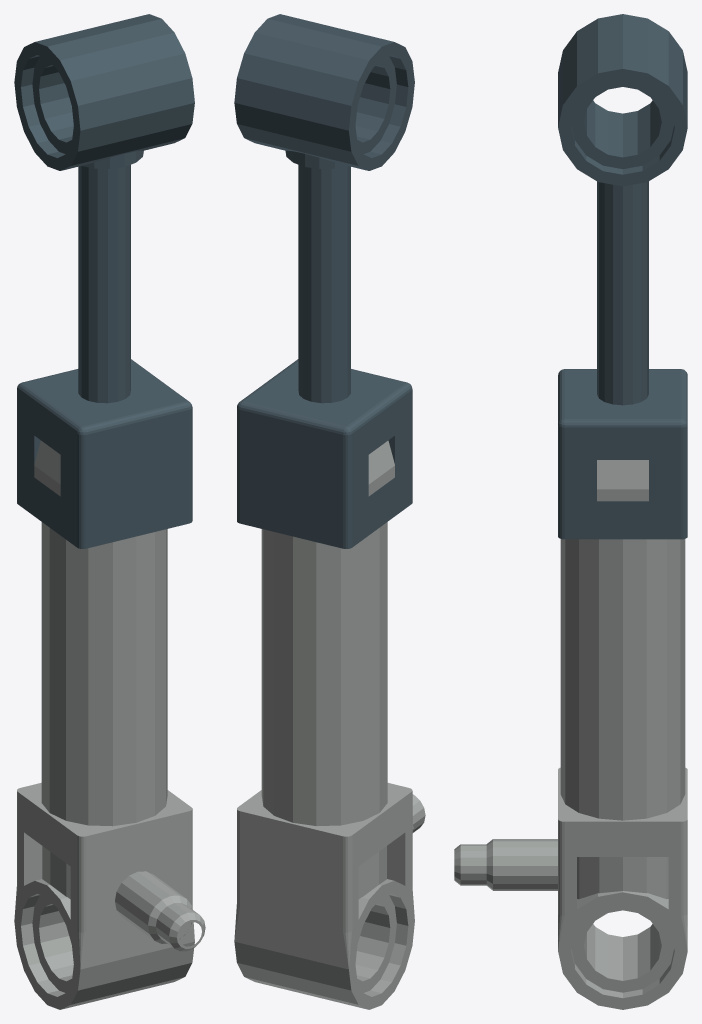
The picture shows the model from 3 angles, left to right: view 1: azimuth 30°, elevation 25°; view 2: azimuth 150°, elevation 25°; view 3: azimuth 270°, elevation 25°; orthographic projection.
Visible parts, largest first — view 1: world; view 2: world; view 3: world.
Boxes of the visible parts, bbox=[...] form: world: bbox=[14, 14, 205, 1009]; world: bbox=[234, 14, 425, 1009]; world: bbox=[454, 14, 687, 1009].
Size of the model in its own units: 0.008 by 0.064 by 0.0144.
